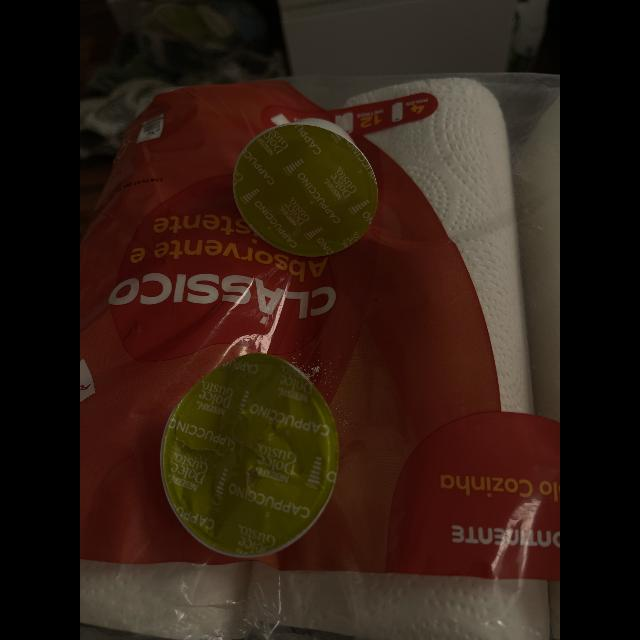damaged_capsule: (156, 340, 354, 566)
intact_capsule: (223, 110, 389, 266)
